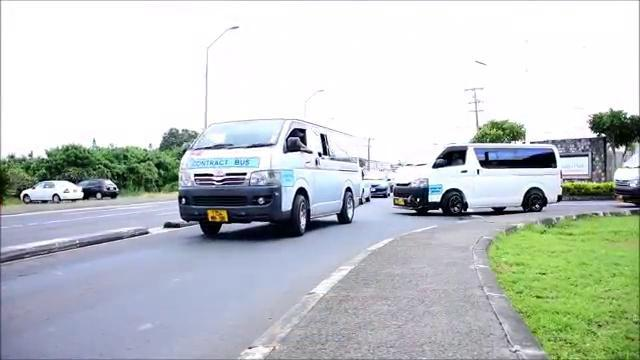van: (177, 111, 374, 235), (386, 138, 570, 223)
